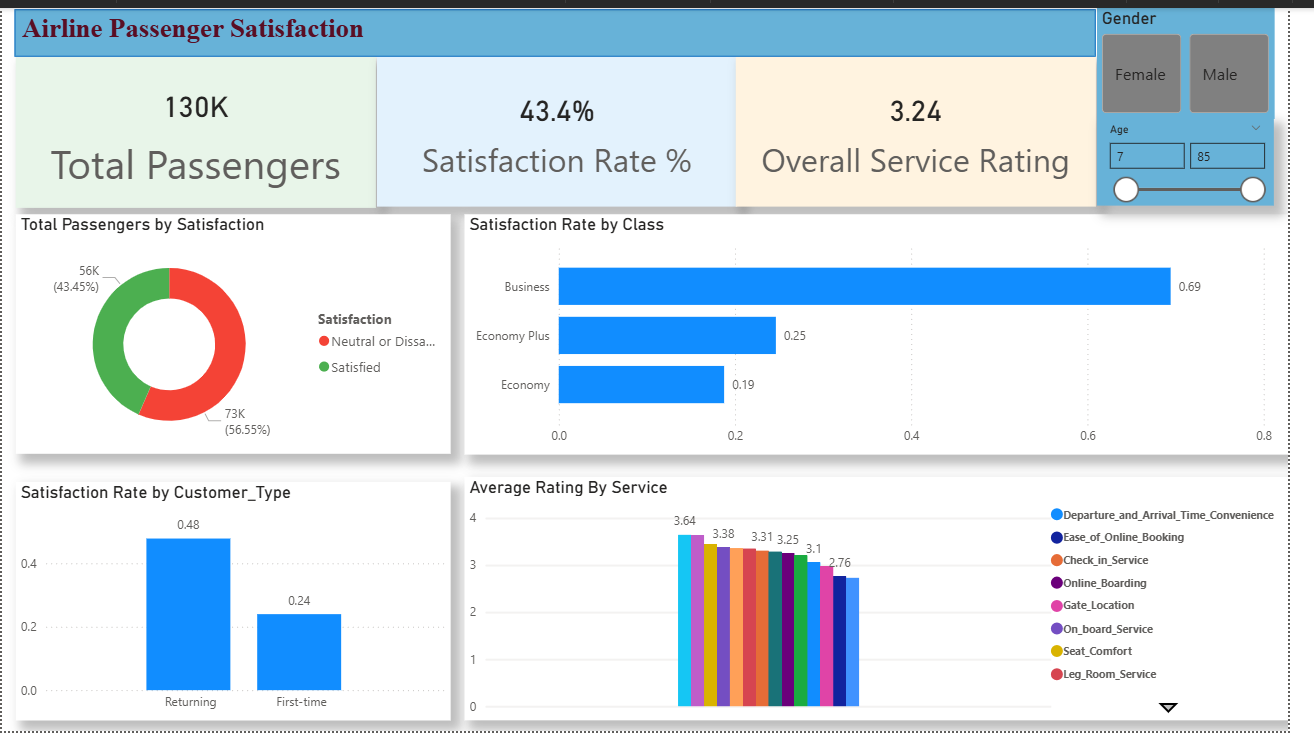

This screenshot's page, from the dashboard's own definition file:
{"tool":"powerbi","page":{"name":"Page 1","canvas":[1280,720],"ordinal":0},"visuals":[{"type":"card","fields":{"Values":["airline_passenger_satisfaction.Total Passengers"]},"box":[14.3,48.6,358.6,150],"z":0},{"type":"card","fields":{"Values":["airline_passenger_satisfaction.Satisfaction Rate %"]},"box":[372.9,47.1,358.6,150],"z":1000},{"type":"card","fields":{"Values":["airline_passenger_satisfaction.Overall Service Rating"]},"box":[730,47.1,358.6,150],"z":2000},{"type":"donutChart","fields":{"Category":["airline_passenger_satisfaction.Satisfaction"],"Y":["airline_passenger_satisfaction.Total Passengers"]},"box":[14.3,205.7,432.9,238.6],"z":3000},{"type":"clusteredBarChart","fields":{"Category":["airline_passenger_satisfaction.Class"],"Y":["airline_passenger_satisfaction.Satisfaction Rate"]},"box":[460.3,205.3,819.8,238.8],"z":4000},{"type":"clusteredColumnChart","fields":{"Category":["airline_passenger_satisfaction.Customer_Type"],"Y":["airline_passenger_satisfaction.Satisfaction Rate"]},"box":[13.7,471.5,432.9,237.6],"z":5000},{"type":"slicer","fields":{"Values":["airline_passenger_satisfaction.Age"]},"box":[1090,110,175.7,87.1],"z":6000},{"type":"advancedSlicerVisual","fields":{"Values":["airline_passenger_satisfaction.Gender"]},"box":[1090,0,177.1,110],"z":9000},{"type":"clusteredColumnChart","title":"Average Rating By Service ","fields":{"Y":["Avg(airline_passenger_satisfaction.Departure_and_Arrival_Time_Convenience)","Avg(airline_passenger_satisfaction.Ease_of_Online_Booking)","Avg(airline_passenger_satisfaction.Check_in_Service)","Avg(airline_passenger_satisfaction.Online_Boarding)","Avg(airline_passenger_satisfaction.Gate_Location)","Avg(airline_passenger_satisfaction.On_board_Service)","Avg(airline_passenger_satisfaction.Seat_Comfort)","Avg(airline_passenger_satisfaction.Leg_Room_Service)","Avg(airline_passenger_satisfaction.Cleanliness)","Avg(airline_passenger_satisfaction.Food_and_Drink)","Avg(airline_passenger_satisfaction.In_flight_Service)","Avg(airline_passenger_satisfaction.In_flight_Wifi_Service)"]},"box":[460.3,466.5,819.8,242.6],"z":9002},{"type":"shape","box":[12.4,1.2,1076,47.3],"z":9003},{"type":"textbox","box":[14.9,0,1074.8,47.3],"z":9004}]}

Visuals, with their boxes in screenshot pixels (x1, y1, x2, y2), scaled from the page's 1280x720 canvas onto the 1314x740 screenshot:
card - airline_passenger_satisfaction.Total Passengers: <bbox>15, 50, 383, 204</bbox>
card - airline_passenger_satisfaction.Satisfaction Rate %: <bbox>383, 48, 751, 203</bbox>
card - airline_passenger_satisfaction.Overall Service Rating: <bbox>749, 48, 1118, 203</bbox>
donutChart - airline_passenger_satisfaction.Satisfaction x airline_passenger_satisfaction.Total Passengers: <bbox>15, 211, 459, 457</bbox>
clusteredBarChart - airline_passenger_satisfaction.Class x airline_passenger_satisfaction.Satisfaction Rate: <bbox>473, 211, 1313, 456</bbox>
clusteredColumnChart - airline_passenger_satisfaction.Customer_Type x airline_passenger_satisfaction.Satisfaction Rate: <bbox>14, 485, 458, 729</bbox>
slicer - airline_passenger_satisfaction.Age: <bbox>1119, 113, 1299, 203</bbox>
advancedSlicerVisual - airline_passenger_satisfaction.Gender: <bbox>1119, 0, 1301, 113</bbox>
"Average Rating By Service " clusteredColumnChart: <bbox>473, 479, 1313, 729</bbox>
shape: <bbox>13, 1, 1117, 50</bbox>
textbox: <bbox>15, 0, 1119, 49</bbox>
